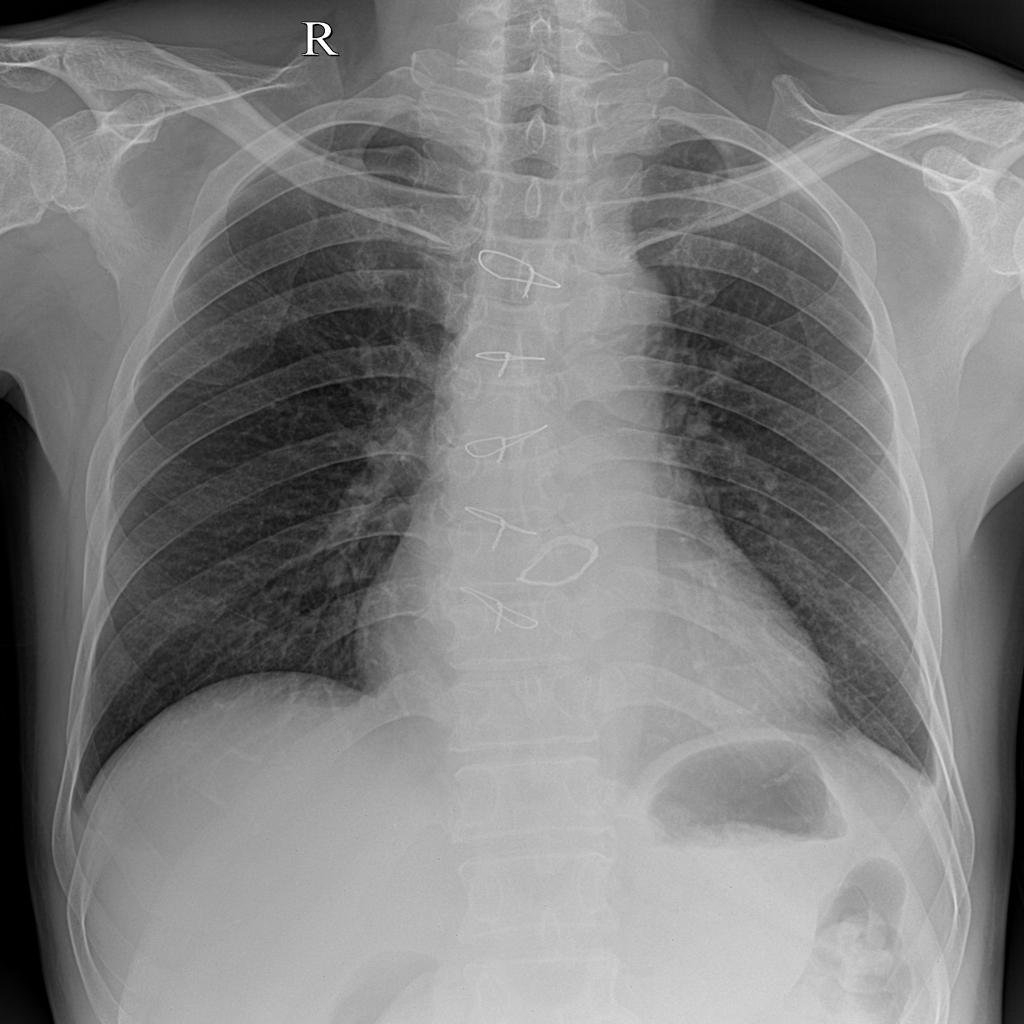Nodule: (654, 155, 734, 199), (713, 241, 774, 277)
